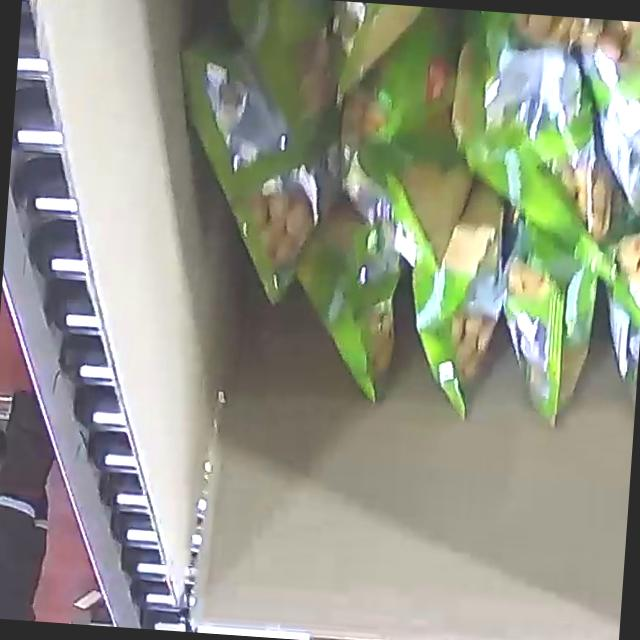yogurt: (146, 0, 640, 440)
